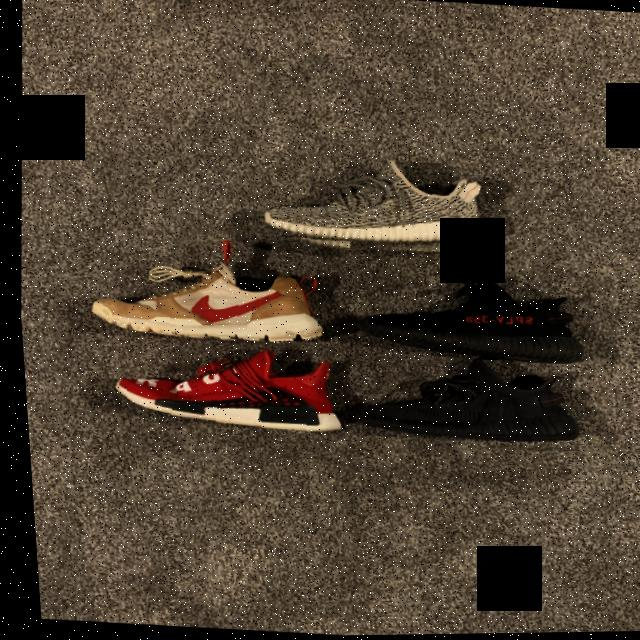shoe: (62, 219, 353, 356), (320, 261, 616, 385), (333, 350, 610, 469), (246, 151, 522, 270), (95, 326, 352, 441)
